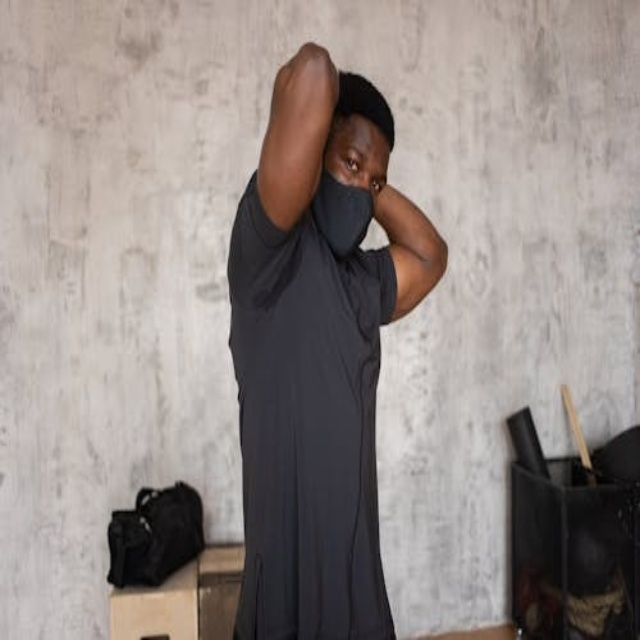Mascara: (314, 169, 374, 260)
Sin_gafas: (334, 135, 388, 200)
